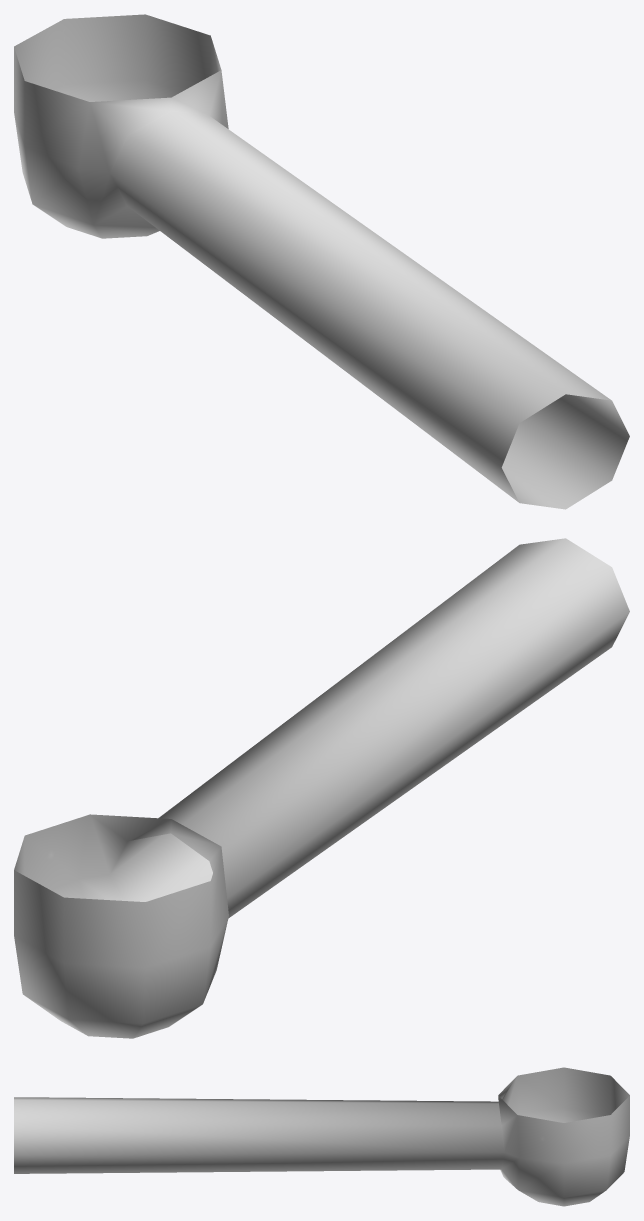
Rendered from CameraSupport.fbx.
3 views of the same model, one above another, from view 1: azimuth 30°, elevation 25°; view 2: azimuth 150°, elevation 25°; view 3: azimuth 270°, elevation 25° (orthographic). The views are drawn at different scales.
Visible parts, largest first — view 1: CameraSupport; view 2: CameraSupport; view 3: CameraSupport.
Boxes of the visible parts, x1,y1,x2,y2 form: CameraSupport: (14, 14, 629, 509); CameraSupport: (14, 538, 629, 1038); CameraSupport: (14, 1067, 629, 1206).
Size of the model in its own units: 8.41 by 7.07 by 39.29.
